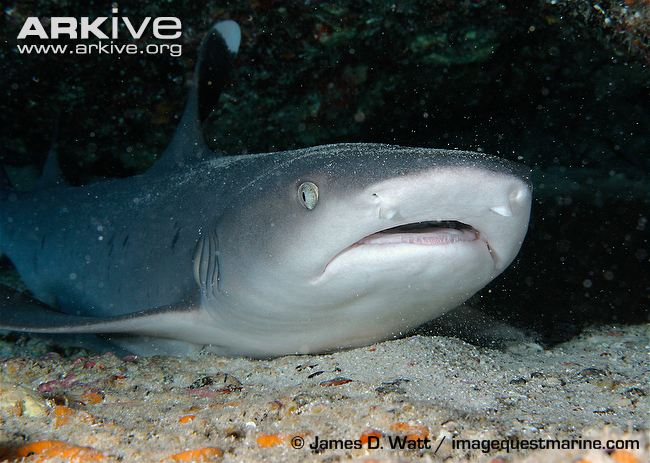shark: (15, 53, 552, 375)
